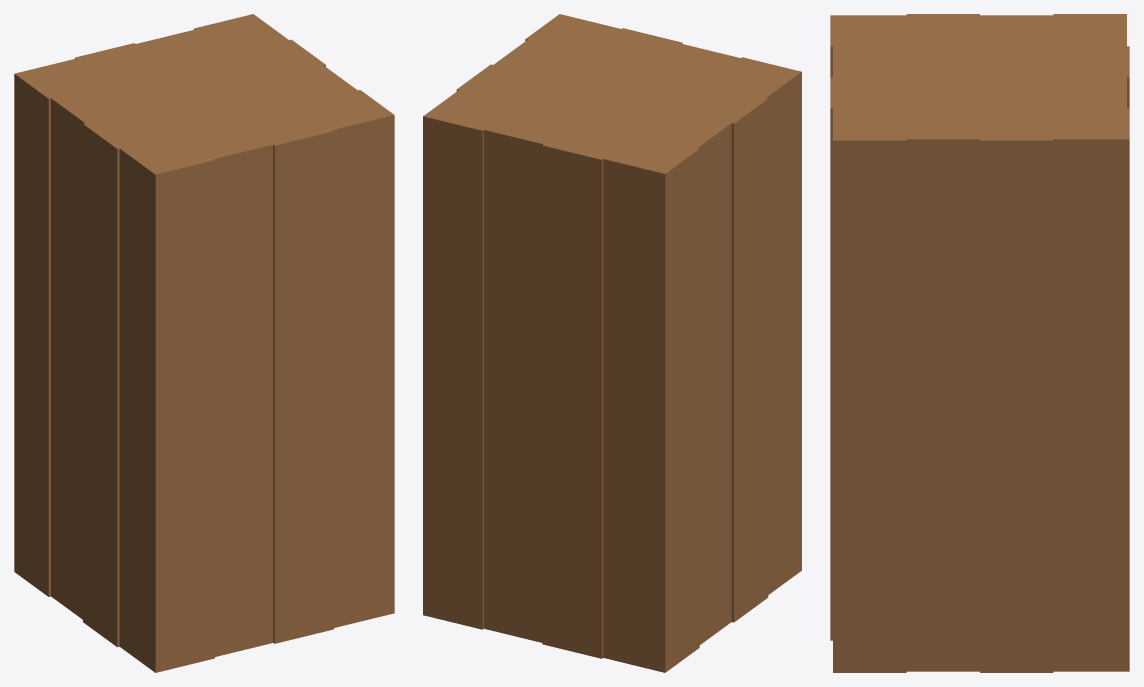
The model's file is wood_wall.glb.
3 views of the same model, side by side, from view 1: azimuth 30°, elevation 25°; view 2: azimuth 150°, elevation 25°; view 3: azimuth 270°, elevation 25° (orthographic). The views are drawn at different scales.
Visible parts, largest first — view 1: Plane; view 2: Plane; view 3: Plane.
Part boxes in pixels (bbox=[...]): Plane: bbox=[14, 14, 394, 672]; Plane: bbox=[423, 14, 801, 672]; Plane: bbox=[830, 14, 1129, 672].
Size of the model in its own units: 1.02 by 2 by 1.02.
